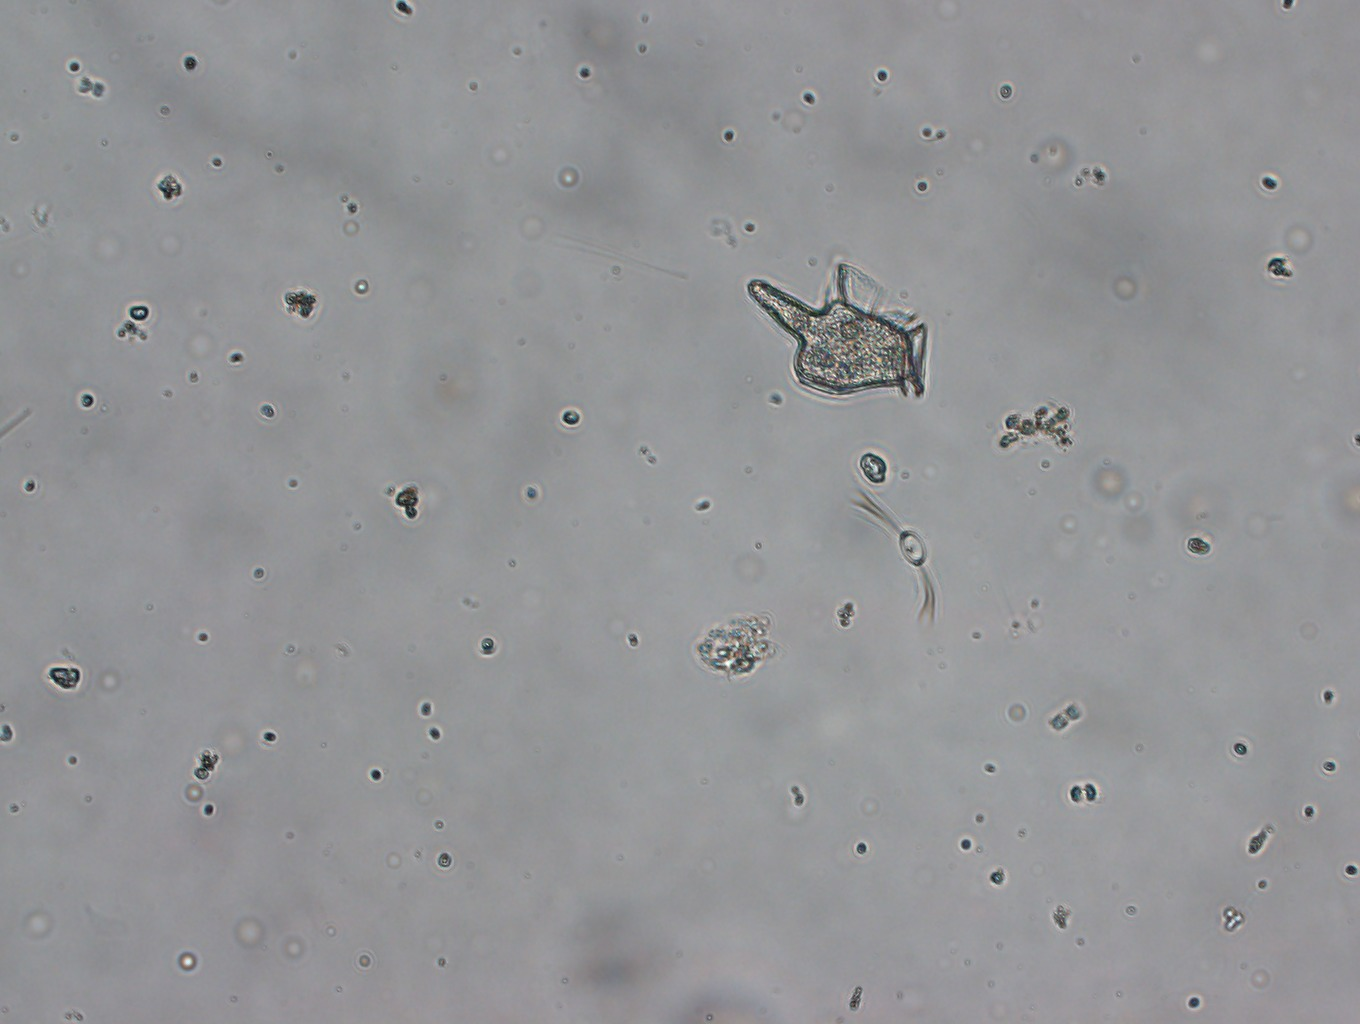chaetoceros: (843, 477, 956, 629)
dinophysis caudata: (738, 255, 944, 401)
